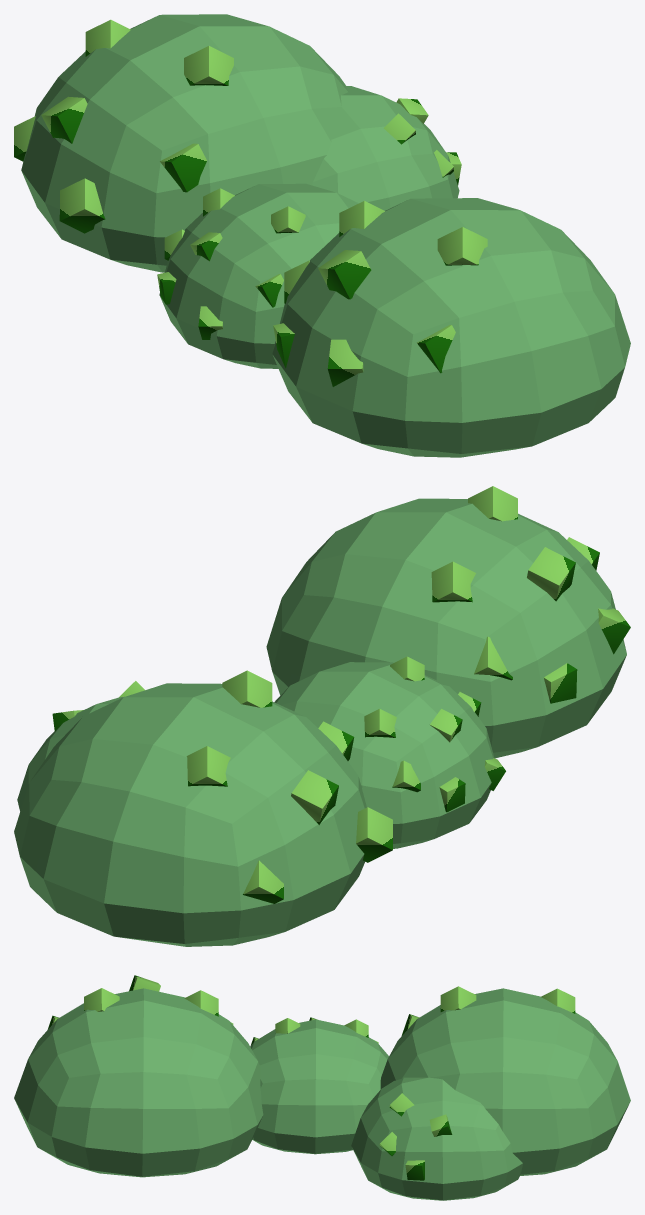
Rendered from New Summer_Obstacle.fbx.
3 views of the same model, one above another, from view 1: azimuth 30°, elevation 25°; view 2: azimuth 150°, elevation 25°; view 3: azimuth 270°, elevation 25° (orthographic). The views are drawn at different scales.
Visible parts, largest first — view 1: Tree.178; view 2: Tree.178; view 3: Tree.178.
Part boxes in pixels (x1,y1,x2,y2): Tree.178: [14, 14, 630, 457]; Tree.178: [14, 486, 630, 946]; Tree.178: [14, 975, 630, 1200].
Size of the model in its own units: 726 by 396 by 1464.
